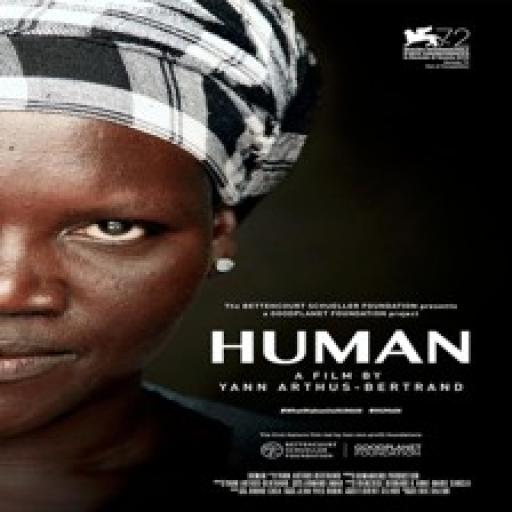human: (0, 0, 279, 512)
